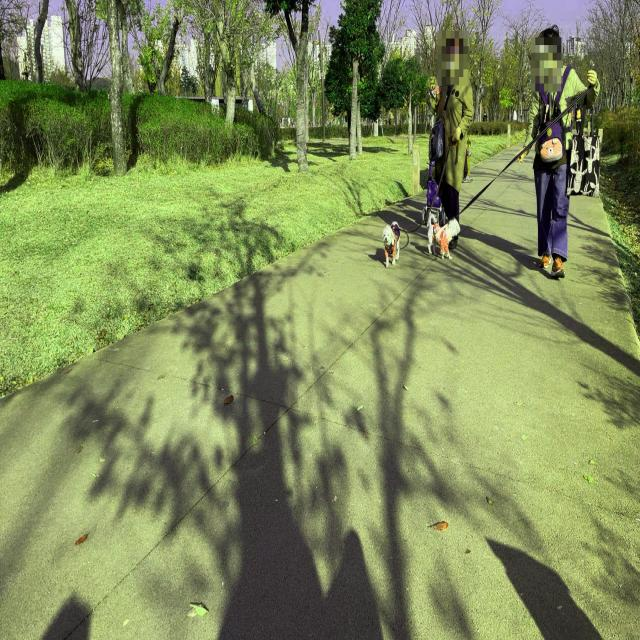Dog: (427, 75, 442, 110)
Leashed_Dog: (427, 140, 543, 261), (382, 146, 446, 269)
